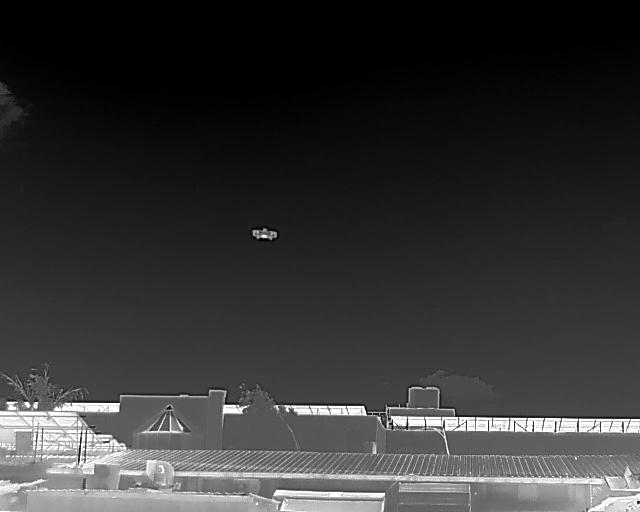fpv-drone: (251, 227, 278, 241)
